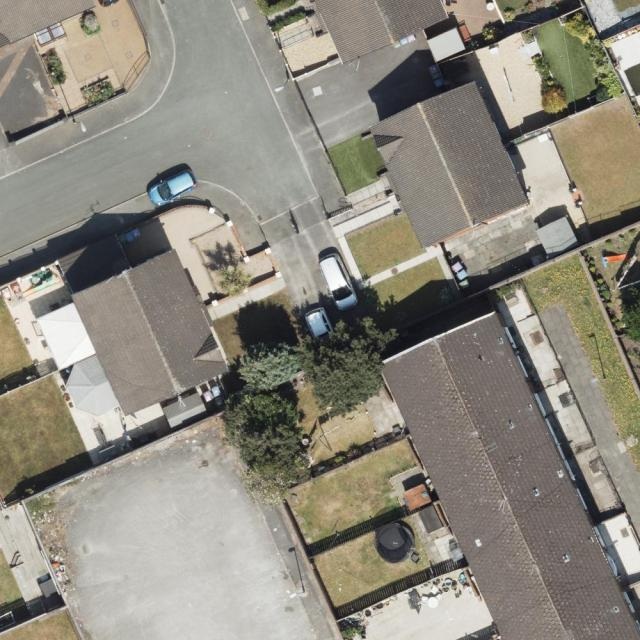roof: (377, 310, 640, 640), (36, 233, 231, 421), (371, 82, 527, 248), (314, 0, 449, 64)
